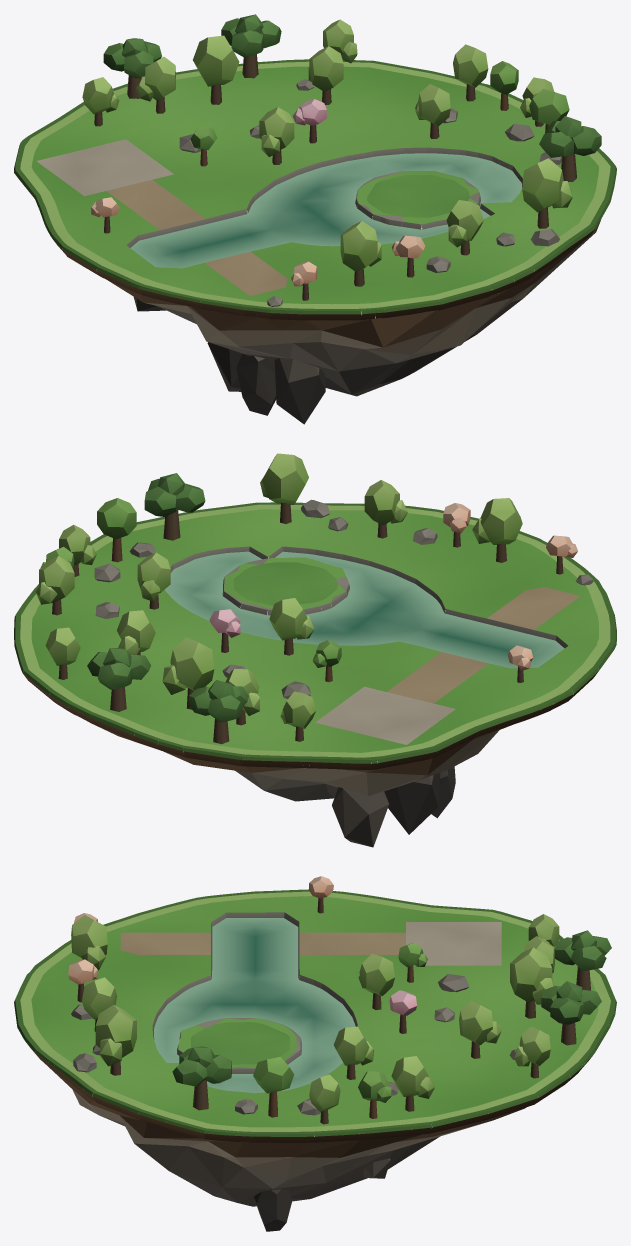
The model's file is title_island_hanoi.glb.
3 views of the same model, one above another, from view 1: azimuth 30°, elevation 25°; view 2: azimuth 150°, elevation 25°; view 3: azimuth 270°, elevation 25° (orthographic). The views are drawn at different scales.
Parts seen in each view (by area): view 1: TitleIslandTerrain, TitleIslandWater; view 2: TitleIslandTerrain, TitleIslandWater; view 3: TitleIslandTerrain, TitleIslandWater.
Part boxes in pixels (x1,y1,x2,y2): TitleIslandTerrain: (14, 14, 616, 424); TitleIslandWater: (130, 153, 521, 268); TitleIslandTerrain: (14, 453, 616, 847); TitleIslandWater: (164, 551, 564, 668); TitleIslandTerrain: (14, 876, 616, 1231); TitleIslandWater: (154, 918, 355, 1093).
Bounding box in the file's own units: 39.47 × 19.18 × 40.99.
